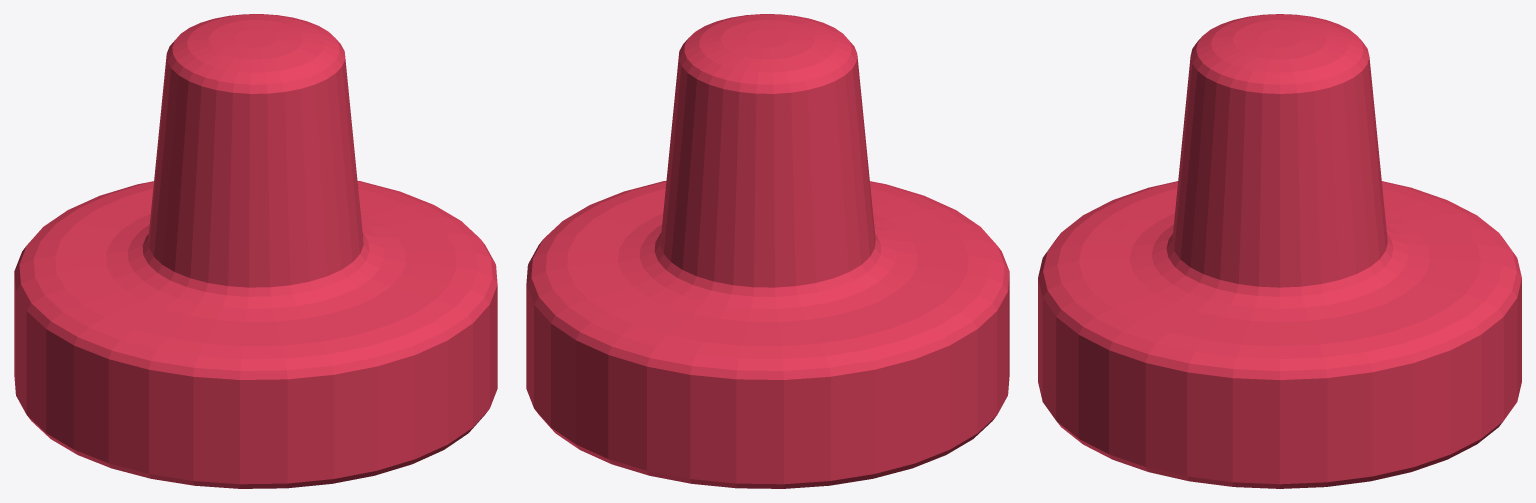
The model's file is Paddle.glb.
The picture shows the model from 3 angles, left to right: view 1: azimuth 30°, elevation 25°; view 2: azimuth 150°, elevation 25°; view 3: azimuth 270°, elevation 25°; orthographic projection.
Parts seen in each view (by area): view 1: Paddle; view 2: Paddle; view 3: Paddle.
Boxes of the visible parts, x1,y1,x2,y2 form: Paddle: (14, 14, 497, 488); Paddle: (526, 14, 1009, 488); Paddle: (1038, 14, 1521, 488).
Size of the model in its own units: 0.8 by 0.6595 by 0.8.
